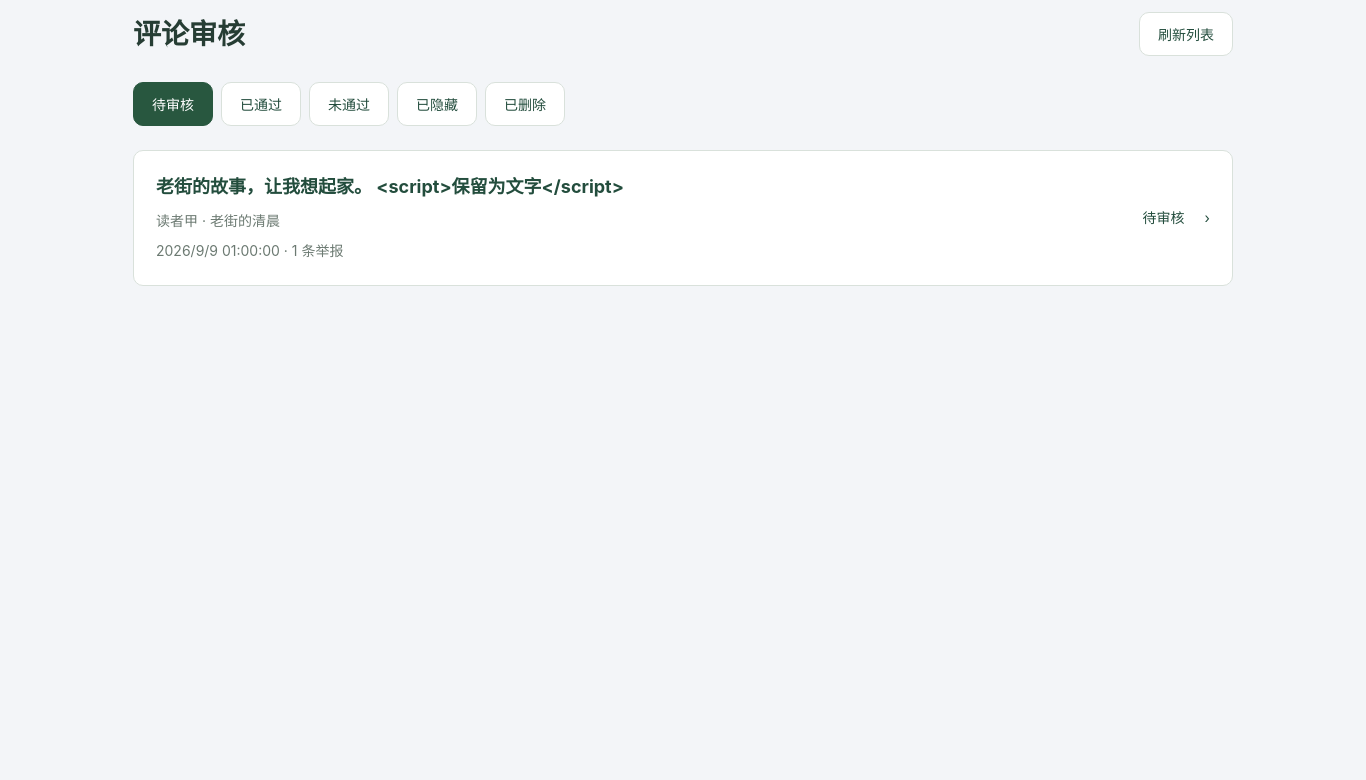
Test case: 通过后从待审列表移除，公开列表可以查看并隐藏
Click the button "老街的故事". click: {"x": 390, "y": 186}
box: [133, 150, 1233, 286]
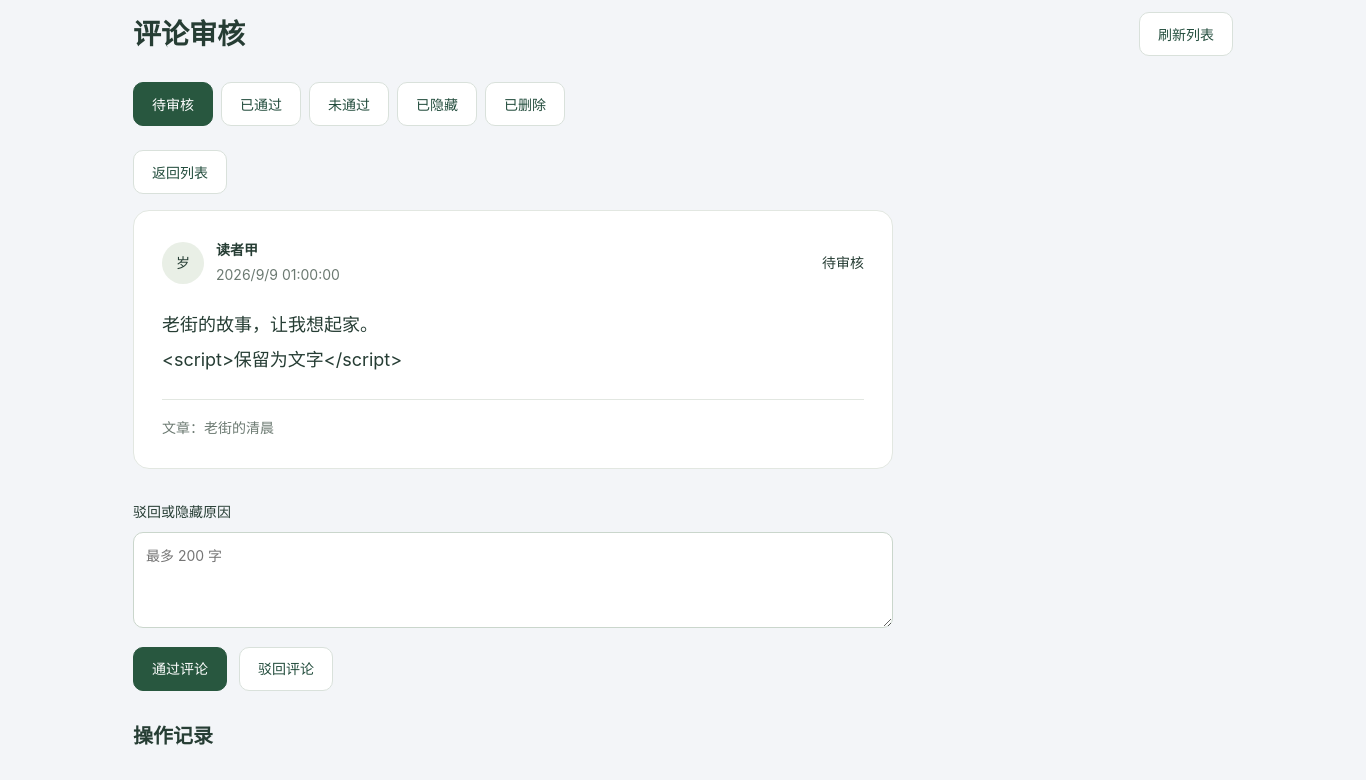
Result: the element named "评论详情" is shown at [133, 210, 893, 469]
Click the button "通过评论". click: {"x": 180, "y": 669}
box: [133, 647, 227, 691]
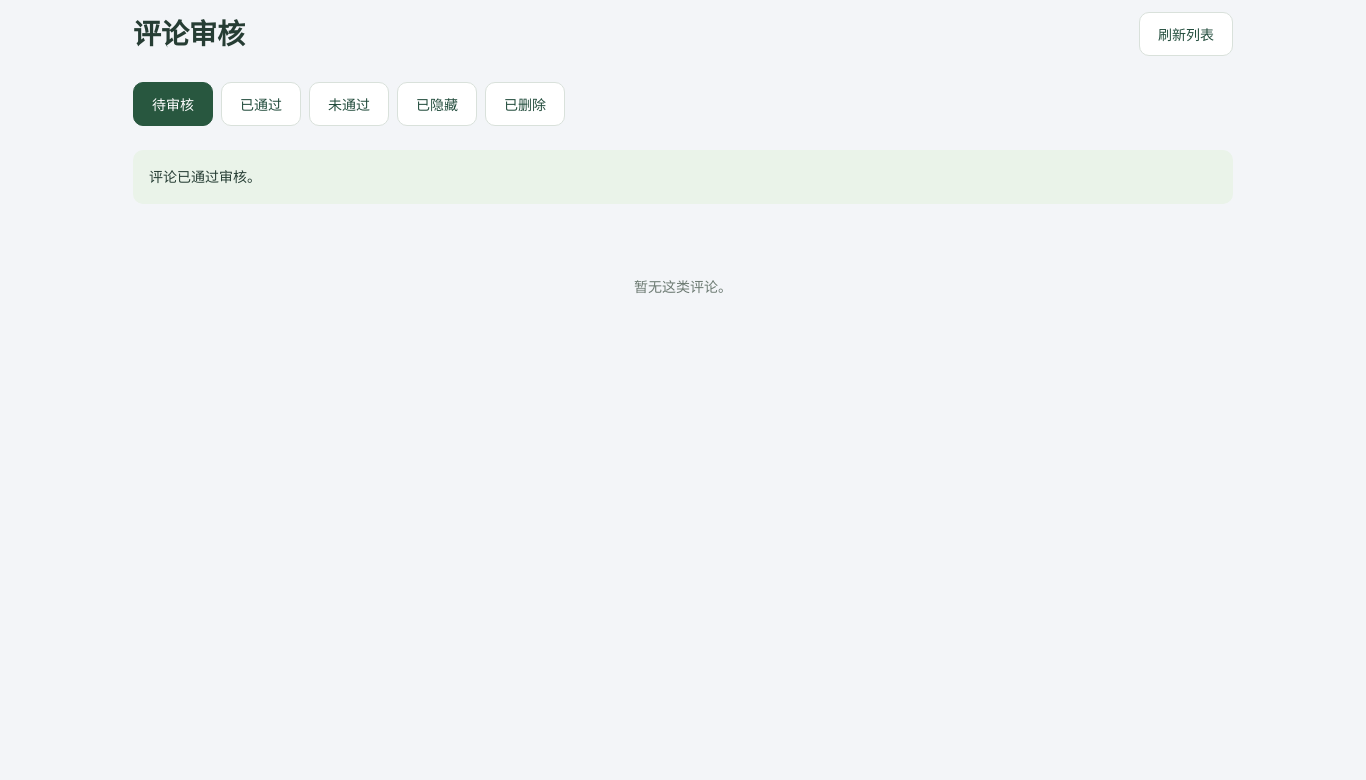
Result: the text "暂无这类评论。" is shown at [634, 278, 732, 295]
Click the tab "已通过". click: {"x": 261, "y": 104}
box: [221, 82, 301, 126]
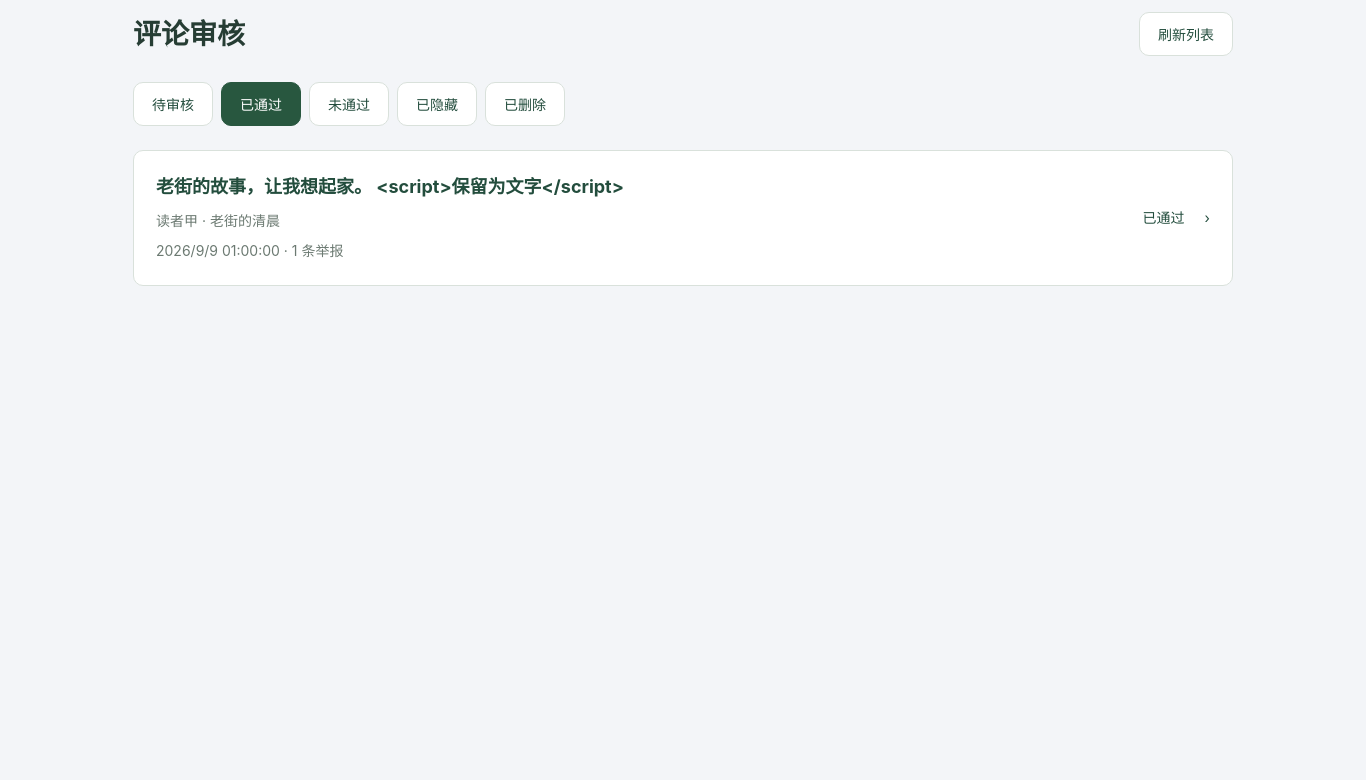
Click the button "老街的故事". click: {"x": 390, "y": 186}
box: [133, 150, 1233, 286]
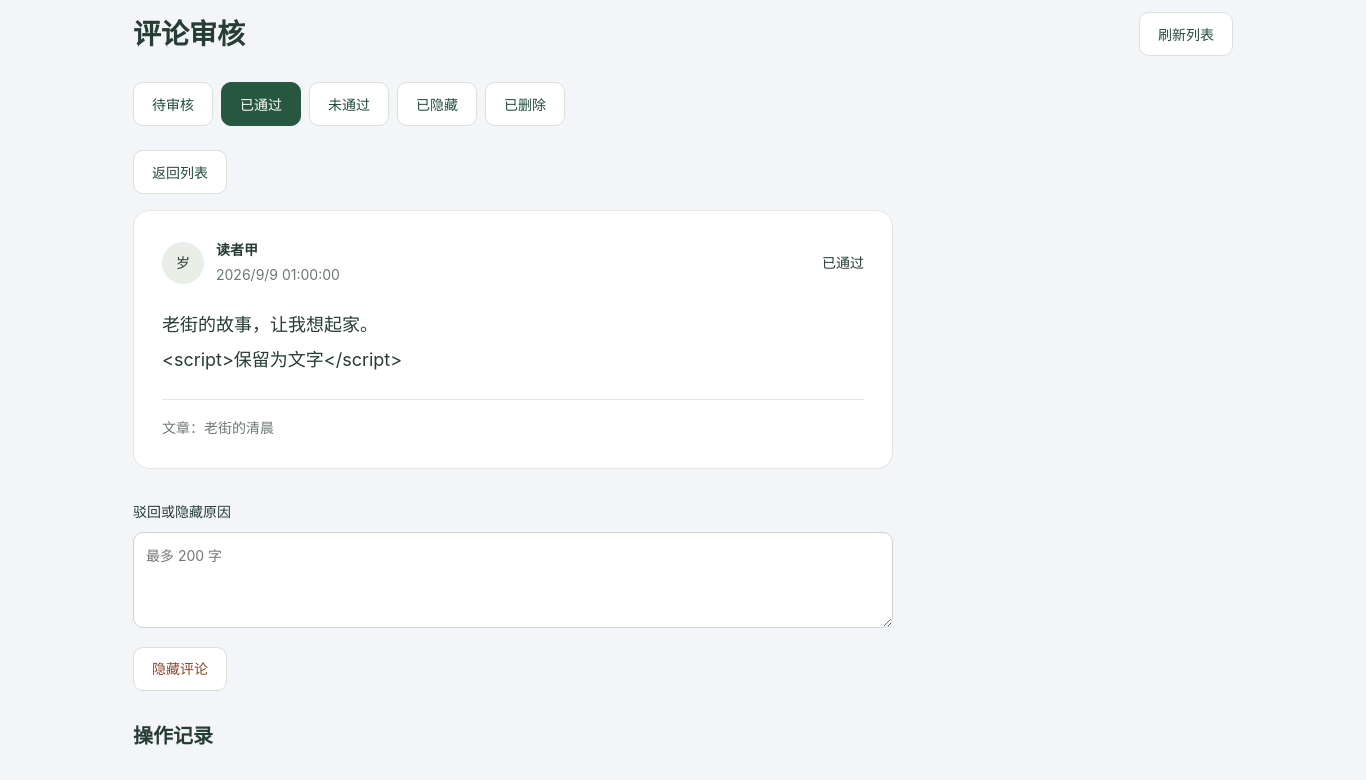
Expected: the button "通过评论" is not shown
Result: the element named "评论详情" is shown at [133, 210, 893, 469]
Type "核实后停止展示" into the text box labelled "驳回或隐藏原因". click: {"x": 513, "y": 580}
box: [133, 532, 893, 628]
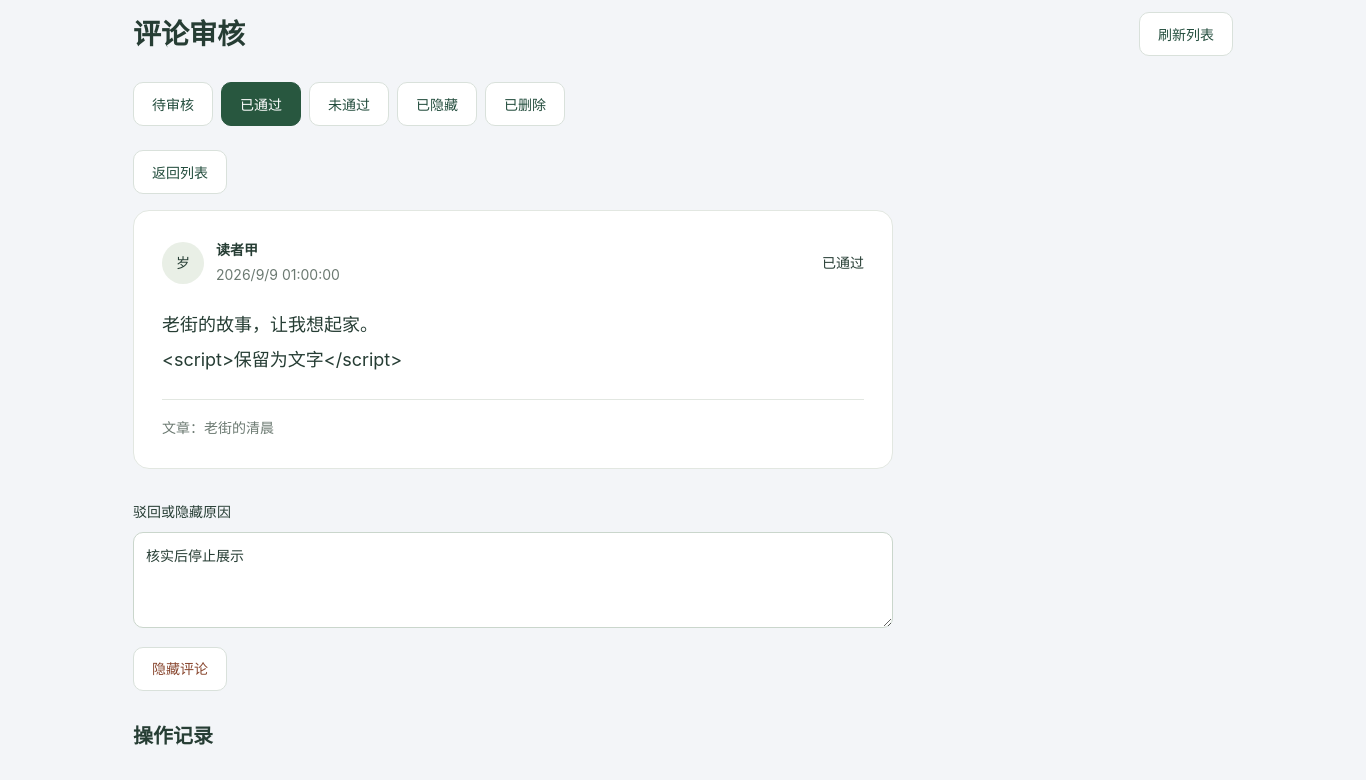
Click the button "隐藏评论". click: {"x": 180, "y": 669}
box: [133, 647, 227, 691]
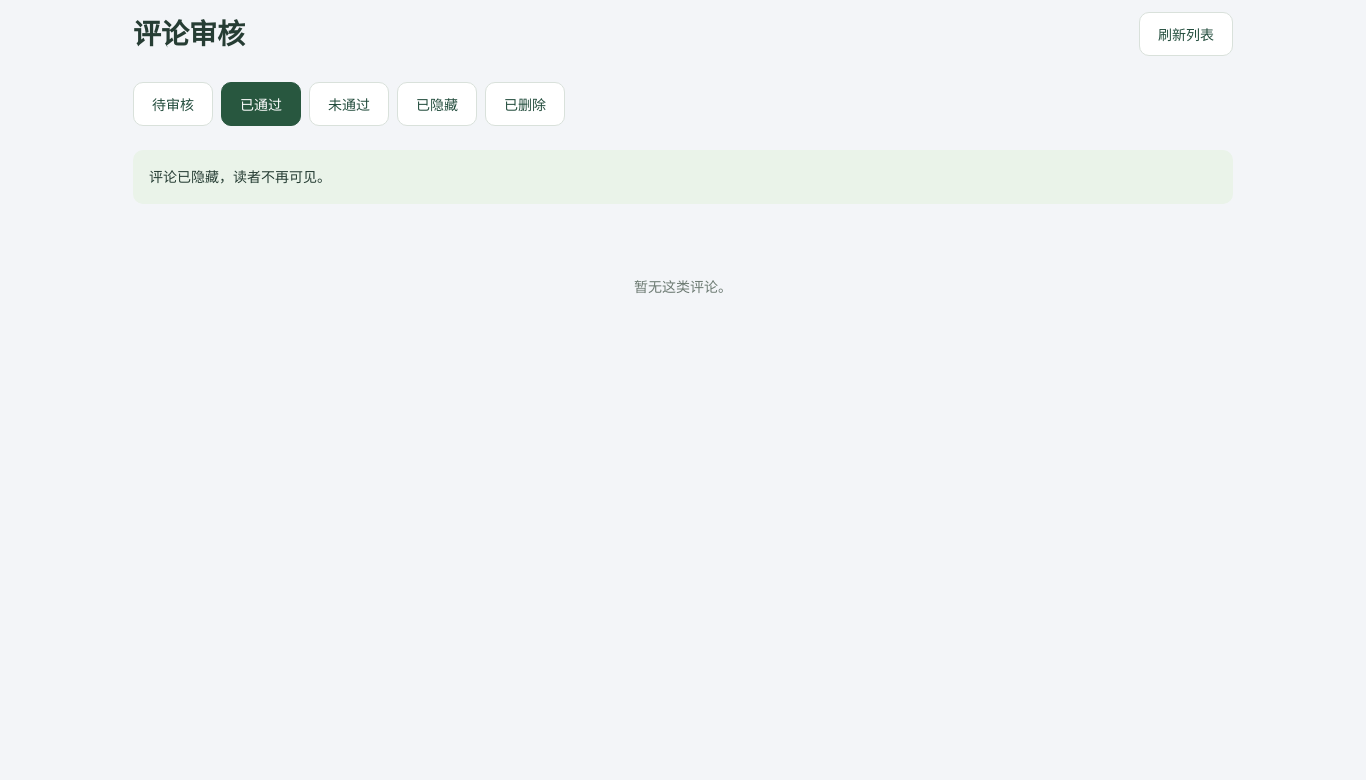
Result: the text "评论已隐藏，读者不再可见。" is shown at [133, 150, 1233, 204]
